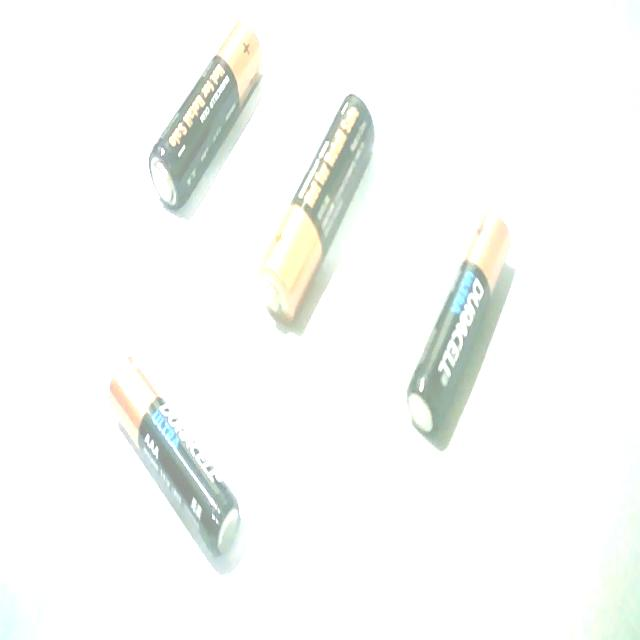AA: (255, 91, 392, 327), (146, 10, 264, 218)
AAA: (104, 347, 243, 567), (403, 202, 515, 444)
